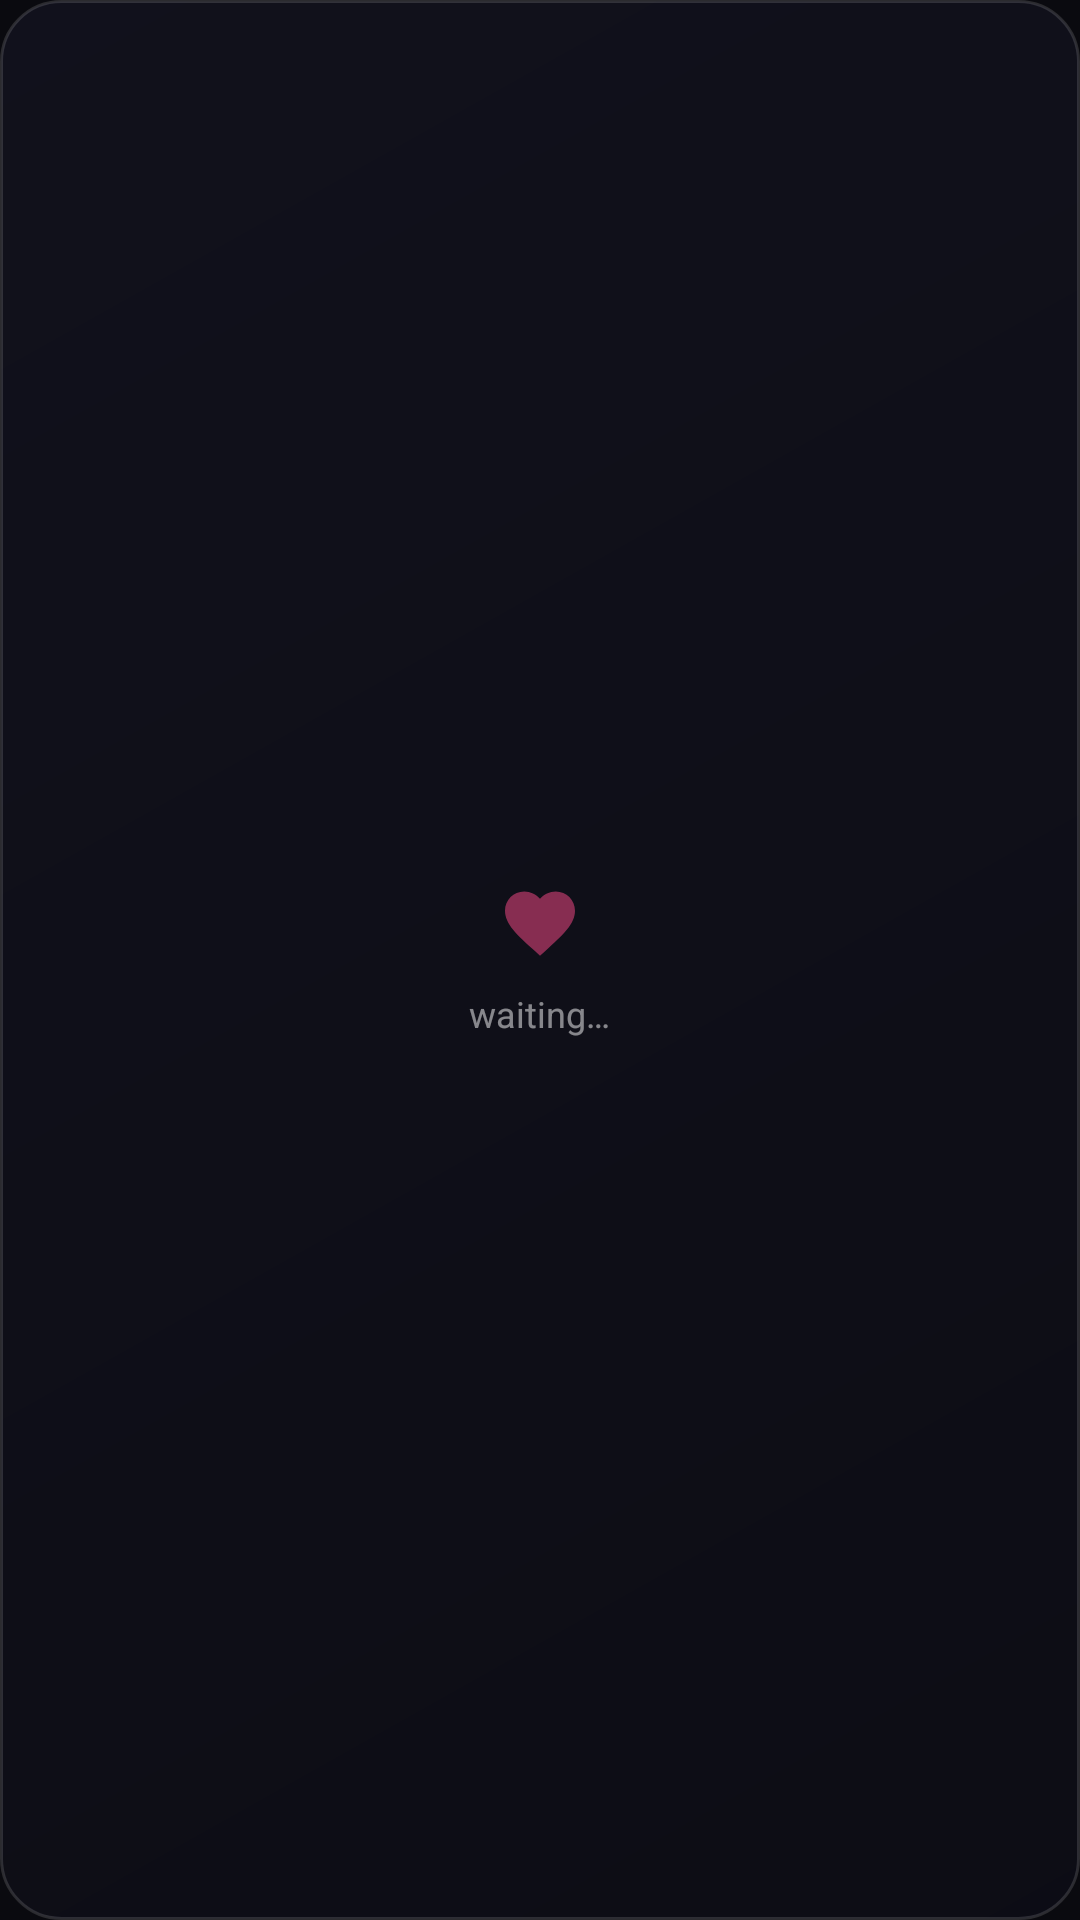

Icons on this 1080px x 1920px Android screen, each with the point to tap as point (x, y):
heart: point (540, 923)
